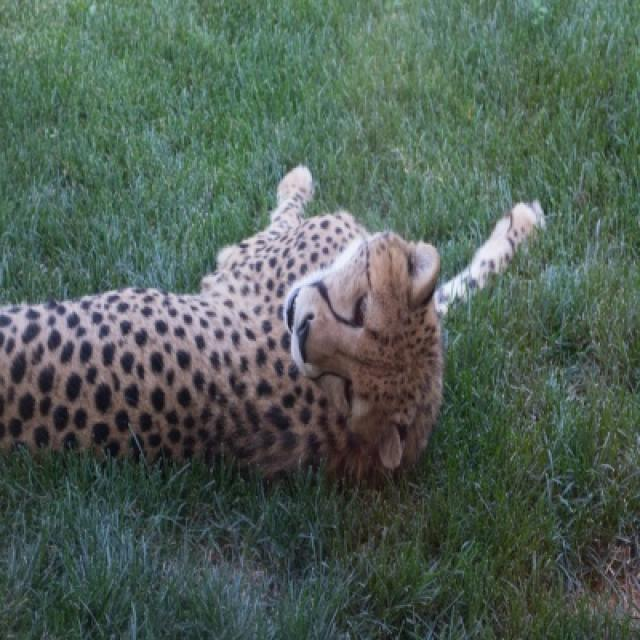Cheetah: (0, 166, 547, 493)
